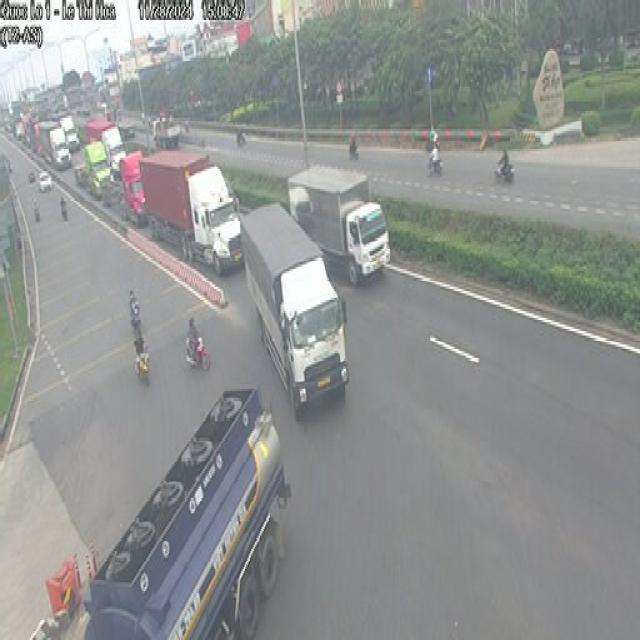container-truck: (135, 142, 250, 279)
truck: (234, 196, 354, 428), (288, 162, 392, 288)
